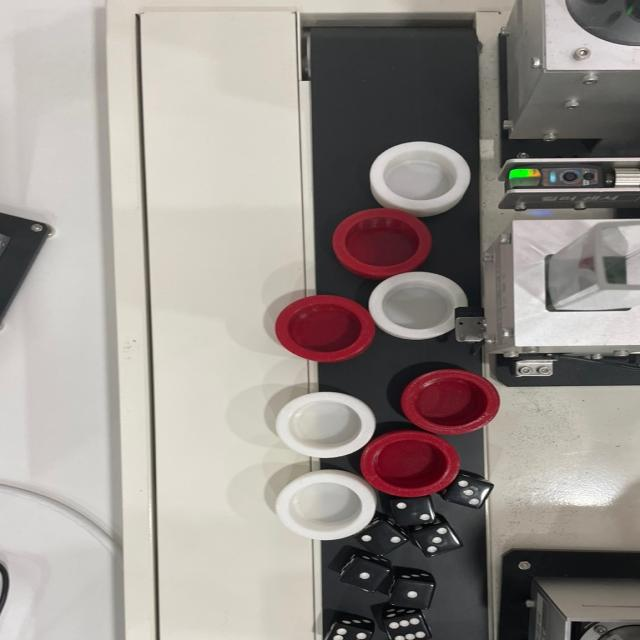DICE1: (343, 564, 384, 589), (392, 583, 438, 605)
DICE2: (392, 501, 437, 525), (361, 529, 401, 550)
DICE3: (454, 478, 498, 510), (420, 525, 457, 558)
DICE6: (387, 617, 427, 640), (326, 626, 370, 640)
RedChip: (352, 432, 460, 494), (401, 369, 501, 435), (331, 208, 433, 272), (275, 294, 369, 360)
WhiteChip: (367, 139, 474, 208), (279, 391, 375, 458), (276, 476, 376, 540), (371, 274, 464, 341)
